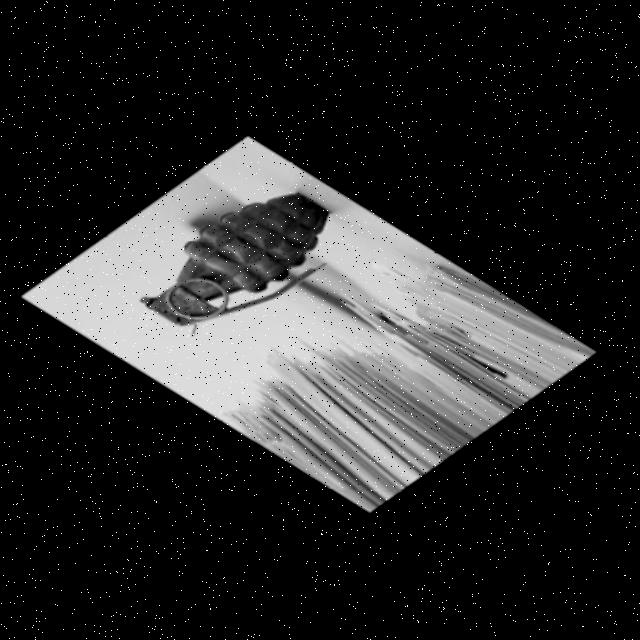grenade: (121, 173, 341, 338)
